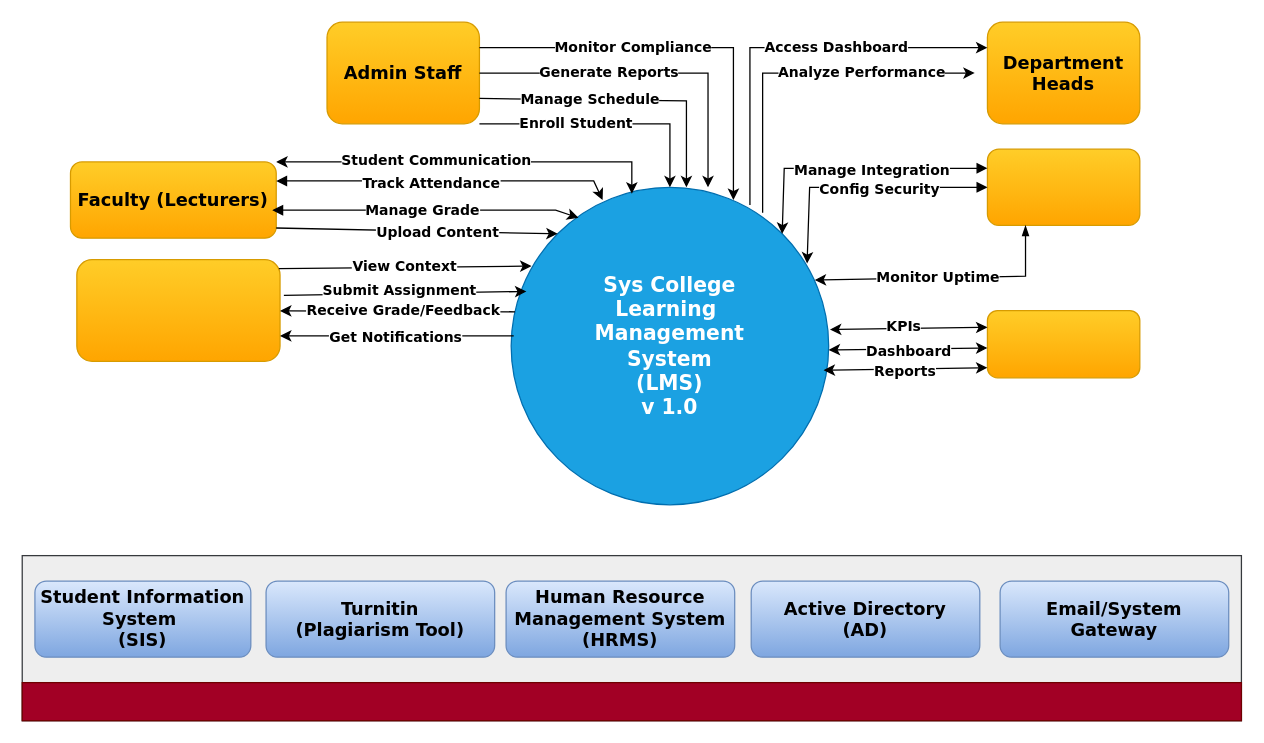
This 1264x743 diagram has some shape labels left out. The centre of each missing label's shape, as x and y in pixels:
"Executives (Vps,Dean)" belongs at (x=1063, y=343).
"Integration with External Systems" belongs at (x=631, y=701).
"IT Department" belongs at (x=1063, y=186).
"Students" belongs at (x=178, y=309).
